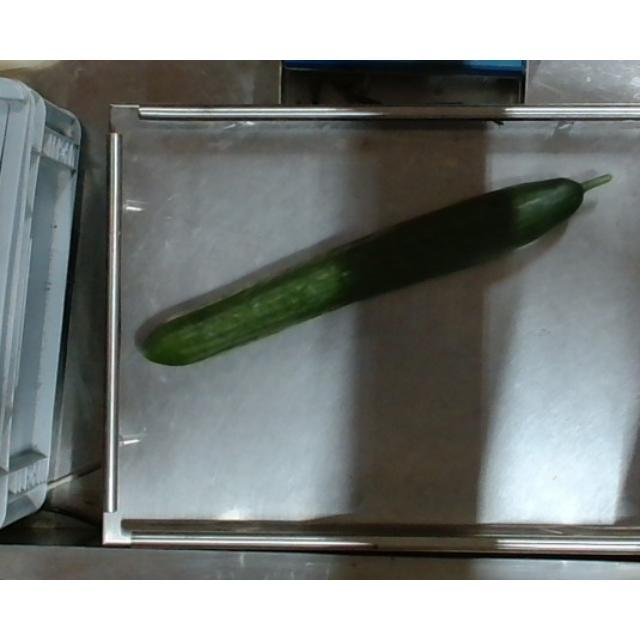cucumber: (124, 163, 612, 363)
